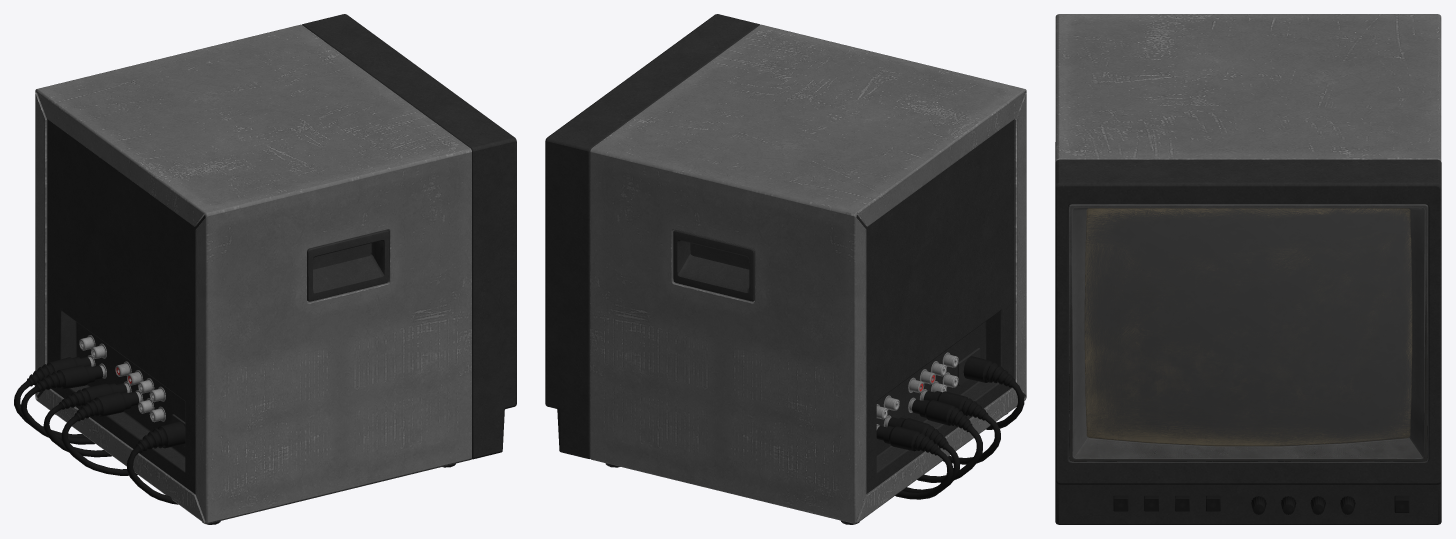
File: tv-cctv-monitor.glb
3 views of the same model, side by side, from view 1: azimuth 30°, elevation 25°; view 2: azimuth 150°, elevation 25°; view 3: azimuth 270°, elevation 25° (orthographic). The views are drawn at different scales.
Visible parts, largest first — view 1: TV_CCTV_02; view 2: TV_CCTV_02; view 3: TV_CCTV_02.
Boxes of the visible parts, x1,y1,x2,y2 form: TV_CCTV_02: (14, 14, 516, 524); TV_CCTV_02: (545, 14, 1026, 524); TV_CCTV_02: (1055, 14, 1441, 524).
Size of the model in its own units: 0.4849 by 0.4023 by 0.3904.
Materials: 2 (2 with a texture image).
